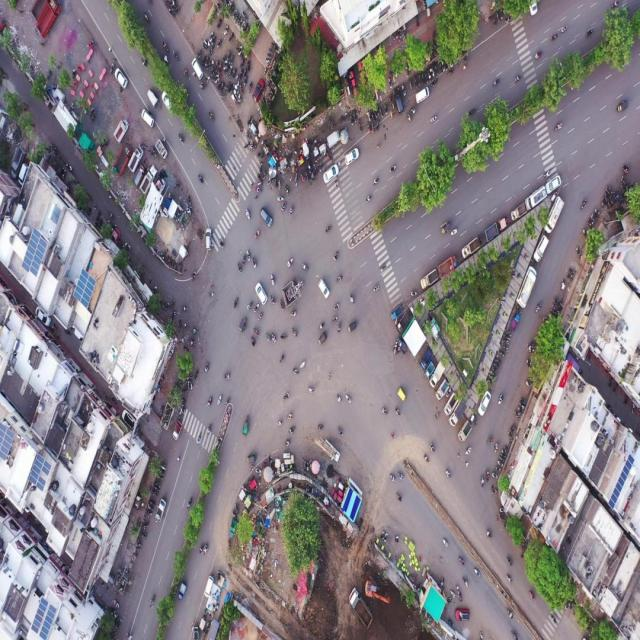3W: (615, 92, 631, 119), (440, 213, 452, 236), (245, 447, 260, 465), (346, 317, 359, 337), (396, 383, 408, 404), (178, 580, 188, 603), (241, 414, 250, 438), (238, 314, 248, 335), (317, 332, 328, 348)
Cars: (342, 146, 361, 168), (254, 279, 268, 305), (534, 236, 548, 262), (323, 164, 341, 184), (478, 391, 491, 416), (140, 107, 155, 128), (253, 78, 266, 102), (317, 278, 331, 300), (546, 177, 563, 195), (453, 606, 470, 624), (260, 208, 274, 229), (114, 68, 128, 88), (192, 58, 204, 81), (204, 575, 216, 598), (415, 87, 430, 103), (204, 228, 213, 253)
LCV: (518, 266, 537, 308), (546, 196, 564, 234), (437, 254, 457, 282), (526, 186, 547, 210), (450, 402, 466, 428), (114, 118, 131, 142), (154, 135, 170, 160), (323, 439, 340, 461), (420, 269, 438, 289), (462, 236, 478, 258), (435, 377, 448, 403), (444, 391, 457, 417), (129, 146, 142, 172), (156, 495, 166, 528), (430, 362, 443, 387), (510, 202, 526, 222), (457, 422, 471, 444), (327, 129, 340, 151), (147, 87, 158, 110), (396, 313, 408, 333), (172, 420, 182, 440), (390, 305, 402, 320), (397, 338, 407, 356), (424, 362, 434, 379), (511, 312, 520, 330)
M2W: (175, 130, 187, 146), (495, 391, 506, 408), (278, 348, 287, 367), (558, 21, 570, 35), (286, 256, 297, 271), (148, 590, 157, 608), (439, 534, 448, 552), (306, 380, 316, 396), (281, 390, 293, 402), (503, 606, 515, 618), (534, 300, 543, 316), (554, 122, 566, 134), (534, 45, 542, 63), (369, 282, 379, 296), (525, 587, 535, 601), (290, 323, 298, 340), (579, 198, 588, 213), (323, 223, 333, 236), (370, 174, 380, 187), (388, 470, 398, 483), (378, 260, 387, 274), (195, 429, 203, 444), (394, 491, 404, 503), (460, 576, 470, 588), (549, 32, 559, 44), (585, 25, 593, 40), (349, 293, 356, 310), (334, 392, 343, 405), (248, 334, 257, 347), (472, 567, 481, 580), (513, 72, 522, 85), (143, 11, 152, 24), (217, 389, 223, 408), (486, 467, 492, 486), (251, 255, 258, 271), (232, 297, 240, 311), (186, 495, 193, 511), (445, 466, 452, 482), (334, 273, 344, 284), (288, 308, 298, 319), (466, 107, 477, 117), (484, 436, 494, 447), (243, 208, 252, 220), (506, 552, 512, 570), (509, 628, 518, 640), (288, 203, 295, 218), (218, 237, 225, 252), (298, 358, 306, 371), (318, 319, 326, 332), (271, 329, 277, 346), (206, 419, 212, 436), (300, 262, 310, 272), (388, 164, 398, 174), (197, 82, 207, 92), (291, 367, 300, 378), (393, 405, 400, 419), (457, 554, 464, 568), (336, 425, 344, 437), (381, 406, 389, 418), (288, 423, 296, 435), (365, 192, 373, 204), (246, 299, 254, 311), (254, 326, 262, 338), (203, 359, 209, 375), (204, 540, 210, 556), (479, 474, 485, 490), (162, 41, 170, 53), (332, 250, 339, 263), (344, 391, 351, 404), (208, 110, 215, 123), (253, 301, 260, 314), (193, 369, 200, 382), (279, 297, 285, 312), (279, 333, 288, 343), (428, 115, 438, 124), (428, 442, 437, 452), (398, 469, 404, 484), (223, 371, 231, 382), (330, 314, 338, 325), (172, 50, 180, 61), (162, 53, 170, 64), (270, 272, 275, 289), (280, 200, 286, 214), (236, 262, 243, 274), (336, 321, 342, 335), (506, 572, 513, 584), (182, 67, 189, 79), (383, 102, 389, 116), (223, 24, 229, 38), (256, 311, 264, 321), (500, 343, 508, 353), (270, 295, 276, 308), (254, 228, 260, 241), (198, 173, 204, 186), (575, 246, 581, 259), (204, 56, 210, 69), (227, 65, 233, 78), (191, 270, 197, 283), (332, 302, 339, 313), (465, 446, 472, 457), (424, 453, 431, 464), (513, 410, 520, 421), (246, 248, 251, 263), (451, 228, 460, 236), (265, 332, 271, 344), (207, 395, 213, 407), (198, 542, 204, 554), (410, 288, 418, 297), (478, 233, 484, 245), (551, 296, 557, 308), (216, 17, 222, 29), (216, 37, 222, 49), (277, 418, 284, 428), (494, 442, 499, 456), (492, 77, 499, 87), (316, 423, 323, 433), (410, 106, 417, 116), (550, 308, 560, 315), (610, 1, 620, 8), (243, 140, 250, 150), (216, 2, 223, 12), (486, 530, 492, 541), (238, 44, 244, 55), (353, 112, 358, 125), (229, 31, 234, 44), (254, 186, 262, 194), (201, 42, 209, 50), (141, 522, 149, 530), (276, 194, 283, 203), (431, 78, 438, 87), (139, 532, 148, 539), (567, 273, 573, 283), (504, 15, 510, 25), (496, 11, 500, 26), (388, 78, 393, 90), (371, 112, 376, 124), (248, 81, 254, 91), (288, 412, 295, 420), (492, 472, 499, 480), (569, 268, 576, 276), (434, 63, 438, 77), (406, 112, 411, 123), (358, 123, 363, 134), (413, 76, 417, 89), (221, 80, 225, 93), (221, 55, 226, 65), (501, 449, 508, 456), (149, 500, 156, 507), (152, 489, 159, 496), (242, 253, 246, 265), (518, 406, 524, 414), (499, 350, 505, 358), (490, 367, 498, 373), (421, 72, 425, 84), (409, 78, 413, 90), (388, 94, 392, 106), (379, 107, 383, 119), (350, 115, 354, 127), (274, 177, 278, 189), (244, 75, 248, 87), (196, 50, 202, 58), (218, 64, 222, 76), (214, 73, 218, 85), (492, 14, 495, 29), (425, 72, 429, 83), (236, 41, 240, 52), (209, 32, 213, 43), (212, 35, 216, 46), (495, 467, 502, 473), (505, 330, 512, 336), (504, 335, 511, 341), (447, 70, 454, 76), (402, 83, 405, 97), (308, 162, 311, 176), (278, 178, 281, 192), (256, 152, 263, 158), (244, 131, 250, 138), (204, 37, 210, 44), (146, 510, 153, 516), (496, 461, 504, 466), (494, 358, 502, 363), (263, 170, 267, 180), (209, 45, 213, 55), (202, 55, 206, 65), (227, 50, 231, 60), (377, 119, 380, 132), (376, 104, 379, 117), (519, 403, 525, 409), (500, 9, 503, 21), (428, 70, 431, 82), (418, 74, 421, 86), (372, 122, 375, 134), (439, 62, 442, 73), (247, 60, 250, 71), (243, 66, 246, 77), (442, 62, 445, 72), (259, 162, 262, 172), (241, 58, 244, 68), (233, 68, 236, 78), (216, 60, 218, 69)
Truck: (347, 588, 374, 630), (34, 0, 60, 37), (114, 144, 132, 174)
